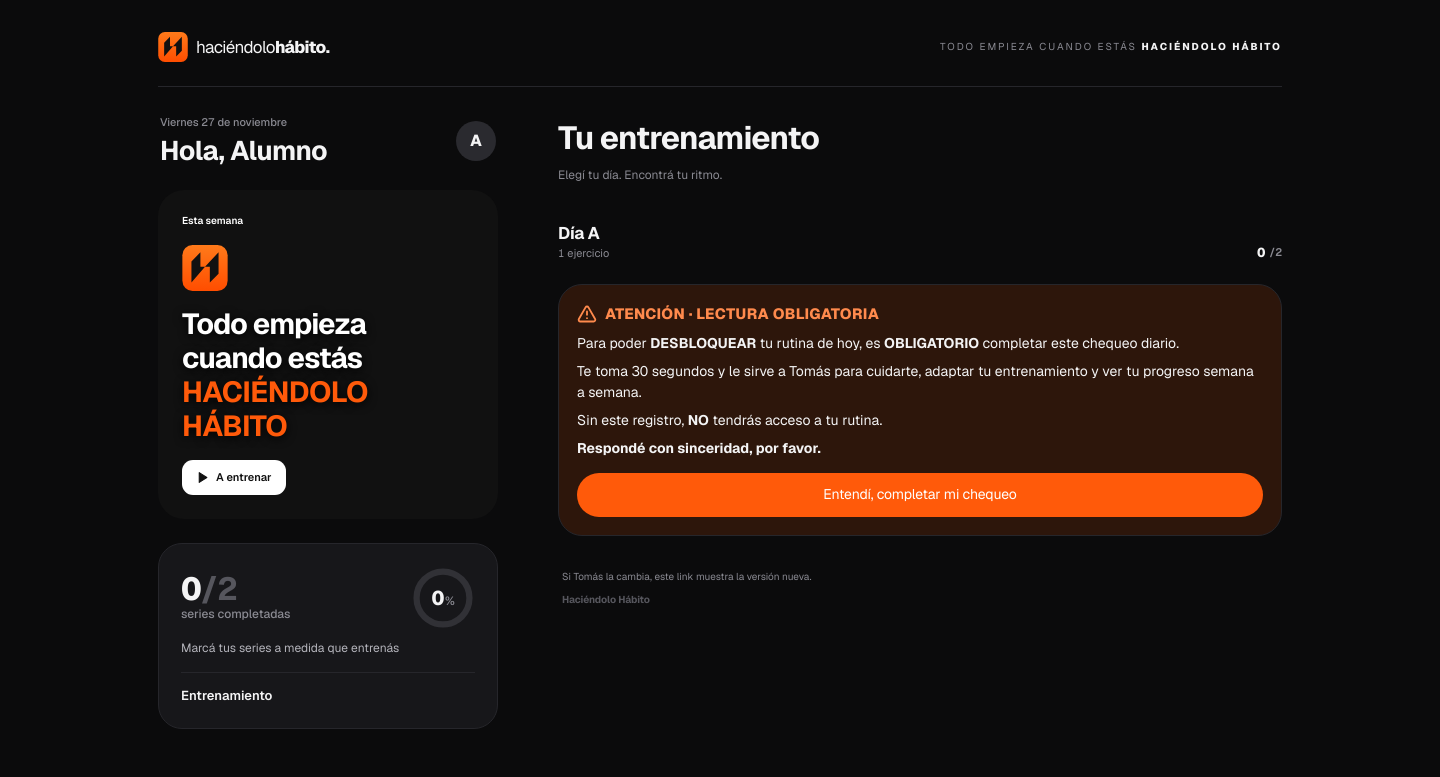
Test case: registro del alumno en la rutina por link › el chequeo es obligatorio: sin responder todo no se desbloquea
This screenshot has width=1440, height=777.
Click the button "Entendí, completar mi chequeo" at (920, 495), box [577, 473, 1263, 517]
(page scrolled)
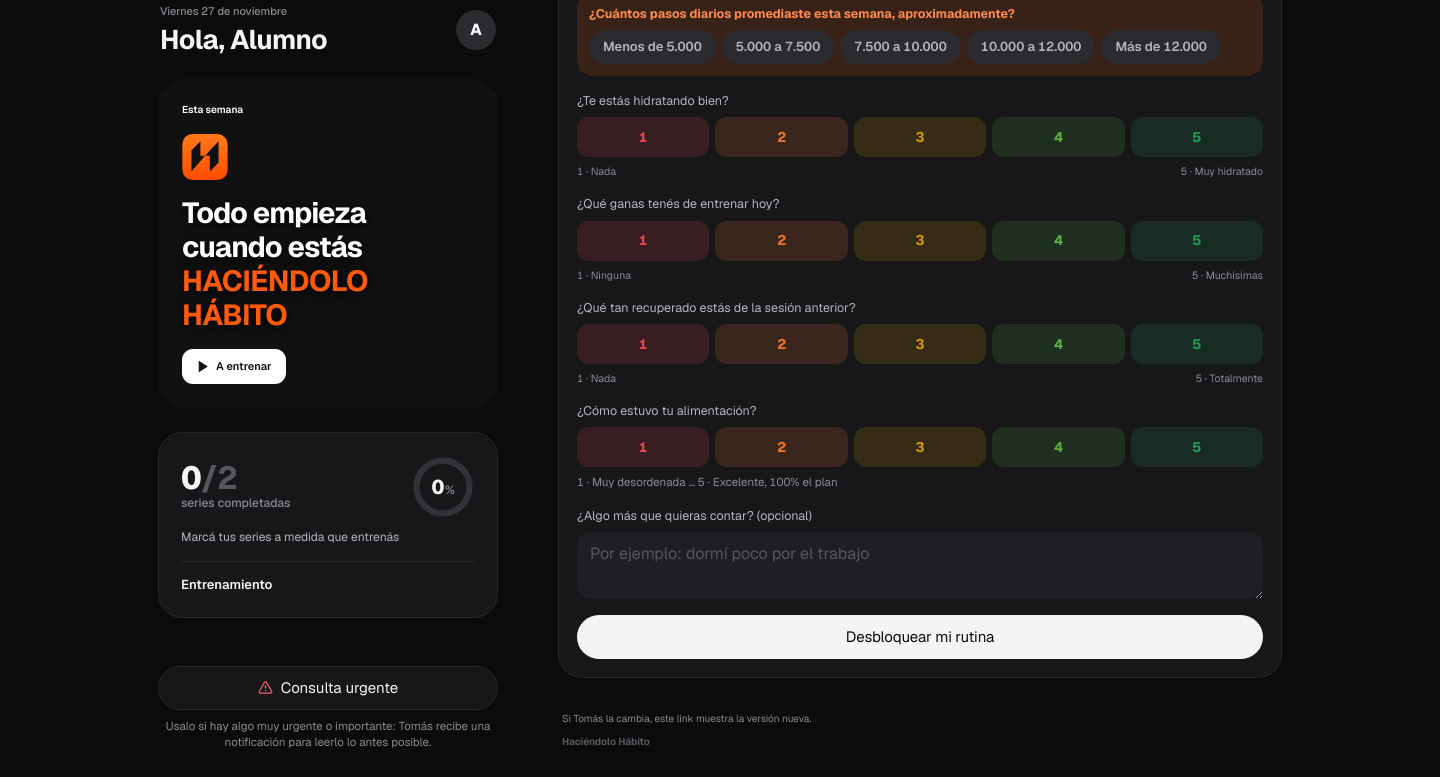
Click the button "Desbloquear mi rutina" at (920, 637), box [577, 615, 1263, 659]
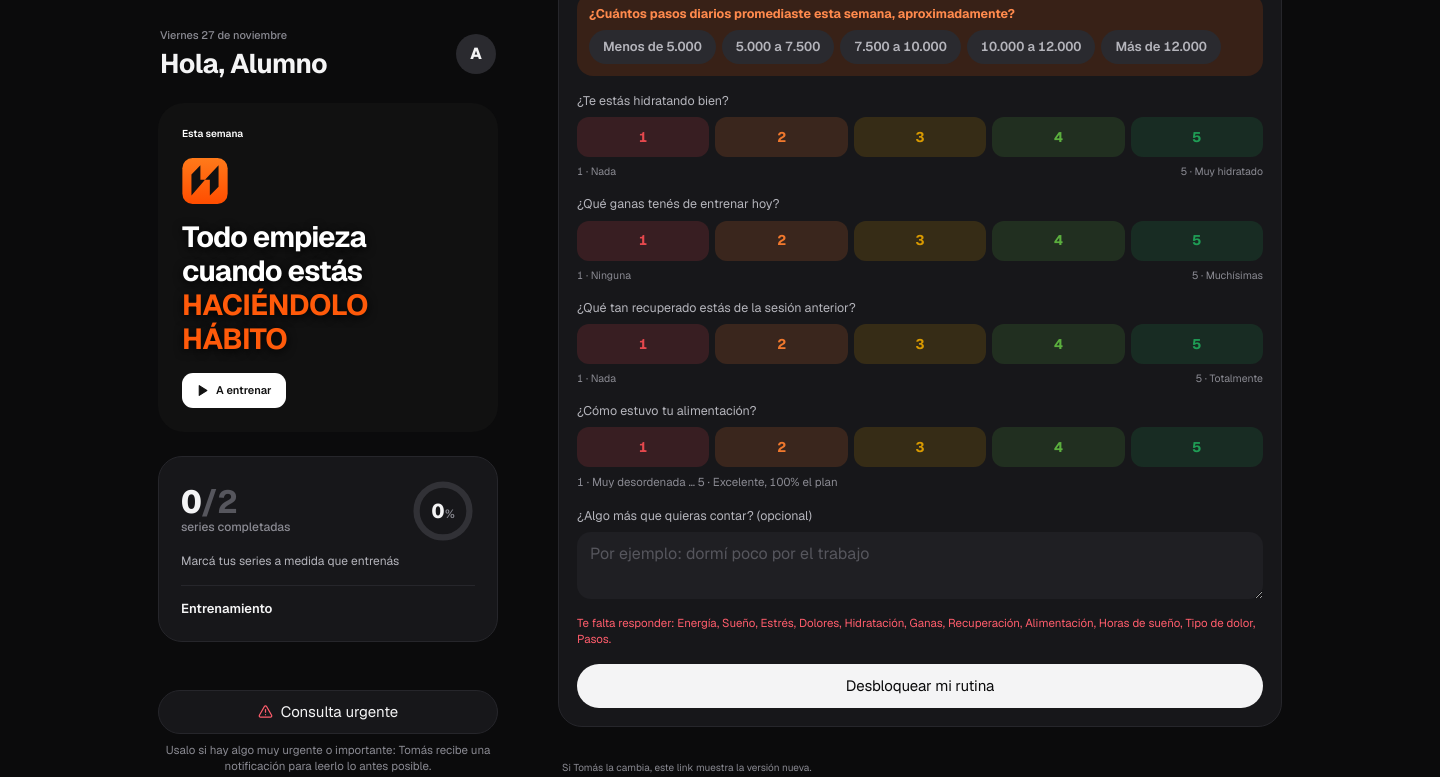
Check: the text with class "is-error" shows "Te falta responder", box [577, 615, 677, 630]
